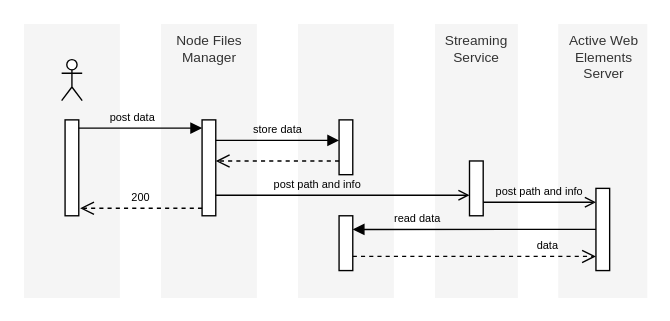
Image size: 670x321. Some labels were removed from this diagram. The shapes that lost their labels are listed below. From the top down, each one's box as (x1, y1, x2, y2) in pixels, then its label:
(23, 23, 119, 297): Developer
(297, 23, 393, 297): Storage Service
